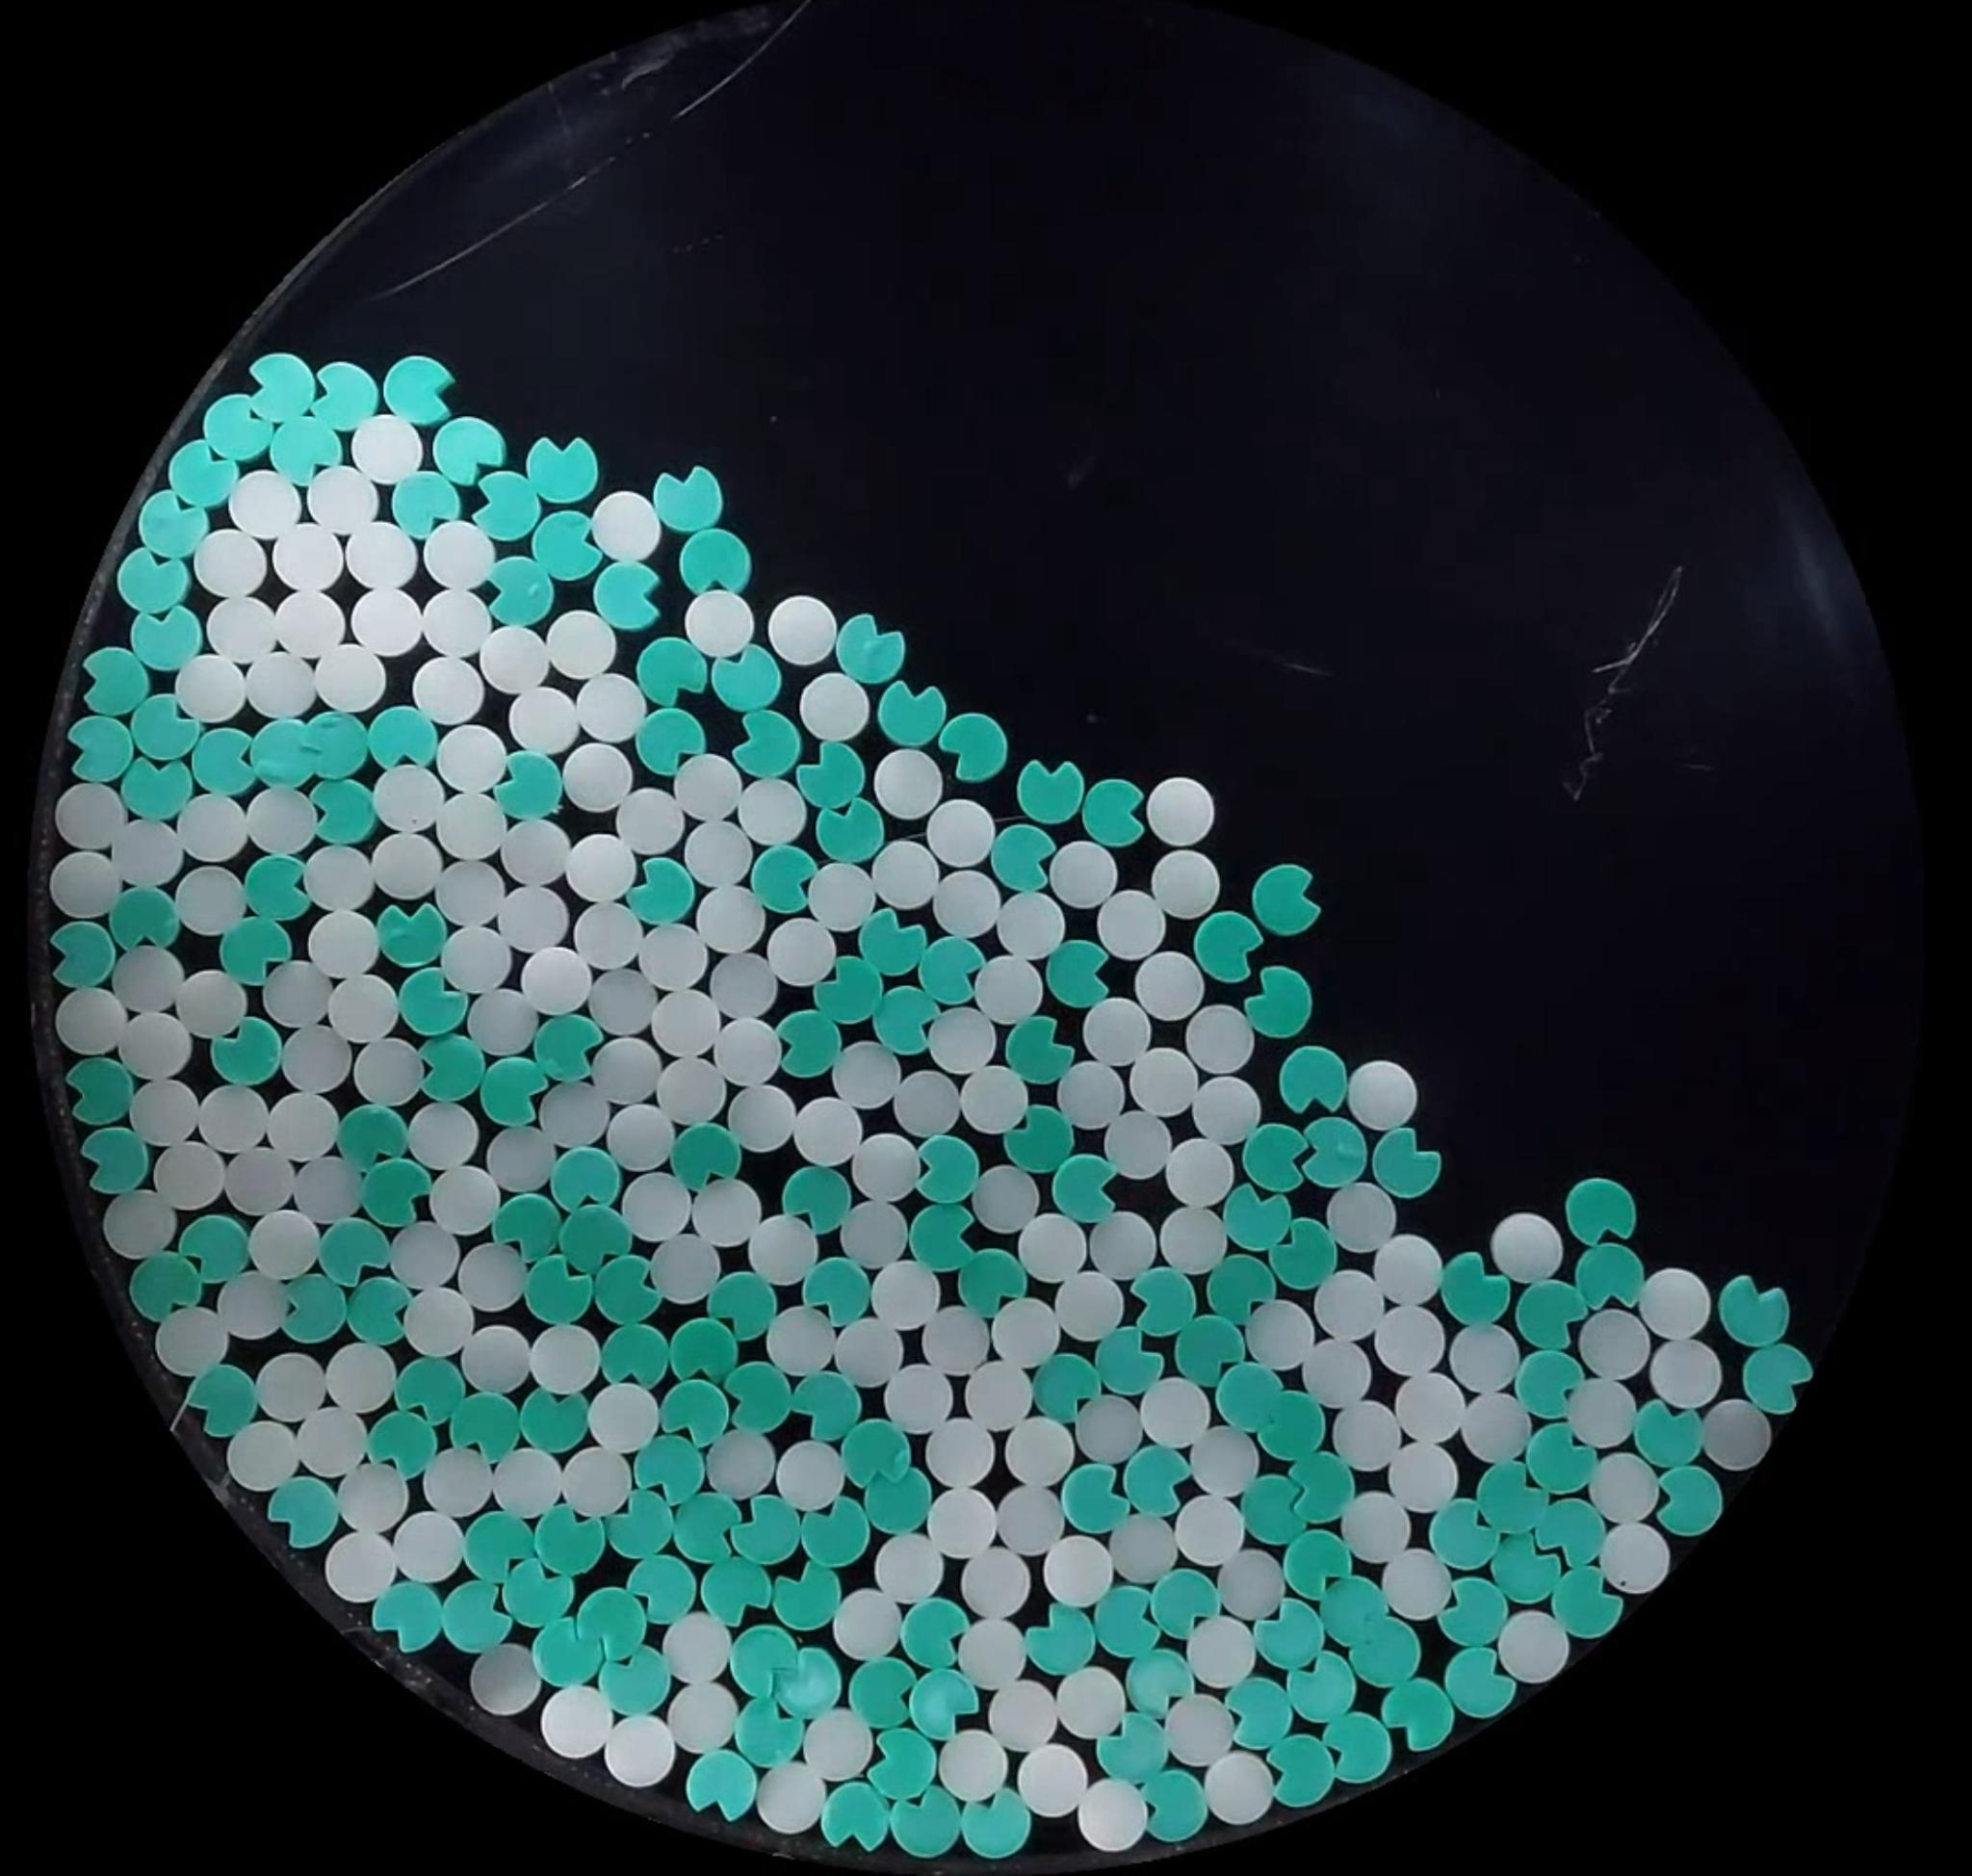no-convexa1: (555, 1237, 662, 1332), (1431, 1249, 1537, 1341), (861, 671, 958, 770), (722, 692, 812, 791), (861, 1453, 954, 1545), (657, 1478, 747, 1568), (1484, 1533, 1572, 1606), (1285, 1437, 1358, 1527), (576, 1584, 653, 1661), (1280, 1522, 1356, 1601), (266, 1476, 342, 1554), (620, 1550, 697, 1626), (1208, 1362, 1285, 1437), (461, 1510, 546, 1578), (447, 1386, 519, 1466), (1123, 1263, 1203, 1335), (440, 1577, 514, 1652), (491, 1194, 567, 1268), (866, 1725, 938, 1802), (1534, 1497, 1613, 1568), (370, 1580, 444, 1654), (63, 1055, 137, 1129), (185, 1363, 259, 1437), (597, 1485, 673, 1557), (1439, 1575, 1511, 1651), (671, 1122, 745, 1194), (558, 1203, 632, 1275), (393, 1356, 465, 1430), (317, 1215, 391, 1288), (1653, 1462, 1725, 1536), (789, 1372, 861, 1446), (856, 907, 930, 979), (1042, 941, 1115, 1015), (1426, 1497, 1500, 1569), (905, 1200, 975, 1275), (1444, 1645, 1516, 1717), (780, 1164, 852, 1237), (129, 1252, 201, 1325), (49, 918, 121, 990), (361, 1156, 433, 1228), (1718, 1274, 1791, 1346), (65, 713, 137, 786), (1527, 1423, 1599, 1496), (1095, 1714, 1167, 1786), (79, 1126, 151, 1198), (1025, 1605, 1097, 1677), (799, 1496, 872, 1568), (651, 463, 724, 535), (364, 705, 438, 775), (525, 435, 599, 506), (176, 1214, 250, 1284), (218, 914, 292, 985), (727, 1624, 798, 1698), (678, 525, 752, 595), (118, 546, 192, 617), (299, 706, 370, 780), (1240, 1476, 1315, 1545), (847, 1656, 916, 1732), (803, 1252, 870, 1330), (1259, 1383, 1324, 1462), (1551, 1566, 1622, 1638), (533, 1506, 604, 1578), (900, 1598, 970, 1670), (241, 853, 313, 923), (842, 1418, 912, 1490), (634, 1434, 704, 1506), (1245, 965, 1315, 1038), (771, 1559, 842, 1631), (909, 1668, 981, 1739), (470, 470, 542, 541), (530, 509, 602, 580), (796, 740, 866, 812), (593, 560, 666, 631), (486, 555, 558, 625), (375, 900, 447, 971), (336, 1101, 410, 1170), (431, 416, 505, 484), (121, 754, 195, 823), (107, 884, 181, 953), (731, 1499, 805, 1568), (699, 1557, 773, 1626), (1475, 1460, 1544, 1534), (662, 1376, 729, 1451), (347, 1270, 412, 1348), (1266, 1212, 1331, 1289), (1634, 1400, 1704, 1471), (666, 1316, 736, 1386), (1382, 1679, 1453, 1749), (479, 1055, 549, 1126), (532, 1013, 602, 1083), (129, 692, 199, 763), (710, 643, 780, 713), (398, 965, 468, 1036), (1349, 1617, 1419, 1688), (634, 706, 704, 777), (1516, 1279, 1586, 1349), (836, 613, 907, 683), (938, 712, 1009, 782), (502, 1557, 570, 1629), (688, 1751, 757, 1823), (190, 724, 259, 796), (1252, 863, 1321, 935), (384, 354, 456, 423), (1373, 1126, 1442, 1198), (1092, 1328, 1164, 1397), (1030, 1353, 1102, 1422), (210, 1018, 283, 1085), (773, 1643, 840, 1717), (750, 844, 819, 914), (1051, 1152, 1120, 1222), (1060, 1464, 1129, 1534), (1192, 911, 1261, 981), (551, 1145, 622, 1214), (1004, 1104, 1074, 1173), (600, 1647, 671, 1716), (1287, 1651, 1356, 1721), (79, 646, 150, 715), (495, 749, 563, 819), (417, 1036, 488, 1104), (602, 1318, 671, 1388), (366, 1409, 435, 1480), (1567, 1177, 1636, 1247), (525, 1256, 593, 1326), (637, 636, 708, 705), (1740, 1344, 1810, 1413), (130, 604, 201, 673), (708, 1270, 776, 1341), (1141, 1770, 1208, 1843), (887, 1790, 960, 1857), (533, 1615, 600, 1688), (1278, 1045, 1345, 1117), (946, 1249, 1019, 1314), (1248, 1601, 1322, 1666), (1324, 1712, 1393, 1781), (1268, 1737, 1336, 1806), (822, 1783, 891, 1851), (627, 856, 695, 925), (734, 1700, 803, 1769), (310, 775, 379, 844), (139, 493, 208, 562), (1224, 1185, 1292, 1254), (391, 470, 461, 537), (1516, 1348, 1583, 1418), (519, 1388, 590, 1455), (1153, 1566, 1220, 1636), (916, 1134, 981, 1207), (1298, 1115, 1363, 1187), (1322, 1571, 1387, 1643), (1125, 1446, 1190, 1518), (1203, 1256, 1277, 1319), (1183, 1312, 1245, 1388), (1231, 1670, 1292, 1746), (963, 1791, 1032, 1858), (169, 442, 238, 509), (310, 363, 379, 430), (1576, 1242, 1645, 1309), (870, 986, 937, 1055), (246, 352, 317, 417), (1099, 1585, 1162, 1658), (990, 821, 1051, 895), (1005, 1016, 1072, 1083), (202, 395, 271, 460), (775, 1008, 840, 1076), (1081, 777, 1146, 846), (269, 416, 338, 481), (1018, 759, 1083, 828), (817, 955, 880, 1025), (1243, 1122, 1305, 1194), (727, 1362, 787, 1436), (1129, 1651, 1196, 1716), (250, 719, 312, 789), (283, 1272, 343, 1344), (815, 800, 882, 863), (917, 937, 977, 1008)
